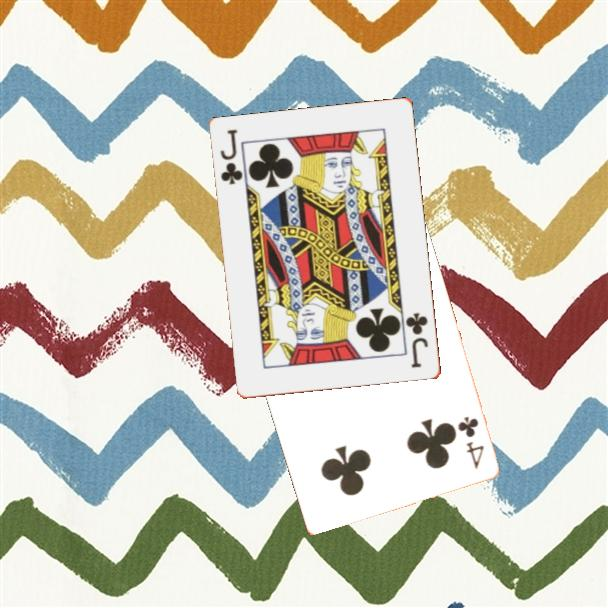c04: (454, 412, 487, 472)
c11: (217, 126, 246, 188), (403, 309, 431, 371)
